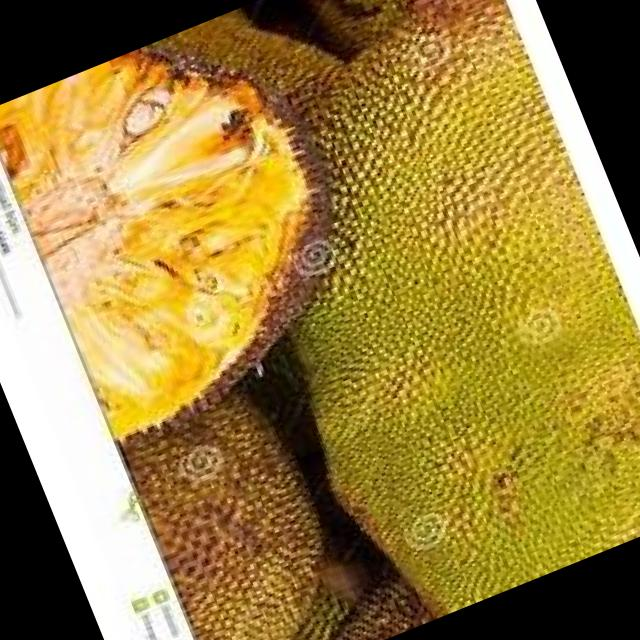Fruit: (212, 131, 640, 640), (157, 0, 630, 372), (51, 318, 403, 640)
